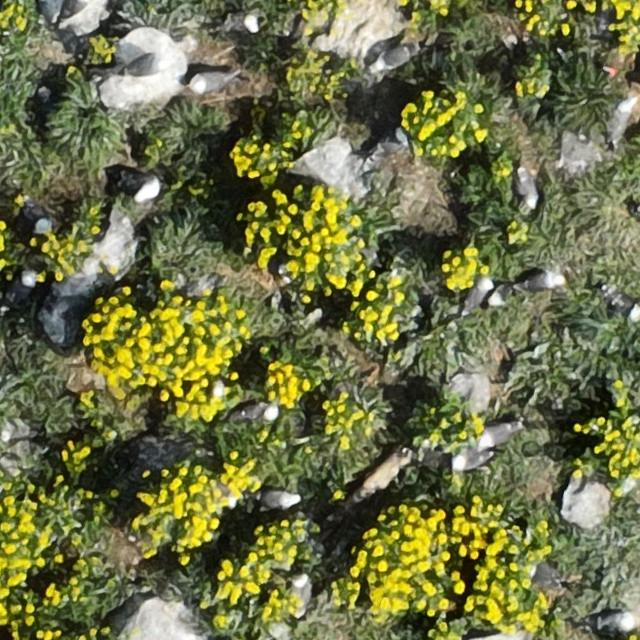umineko: (118, 52, 174, 78), (517, 272, 568, 297), (461, 278, 493, 317), (218, 10, 260, 33), (597, 609, 636, 633), (378, 46, 417, 69), (7, 274, 36, 304), (607, 293, 639, 319), (232, 402, 275, 421), (479, 425, 516, 446), (192, 74, 229, 94), (452, 449, 487, 470), (24, 203, 49, 232), (260, 491, 297, 510), (132, 177, 161, 201), (518, 172, 536, 208), (292, 576, 309, 613)
